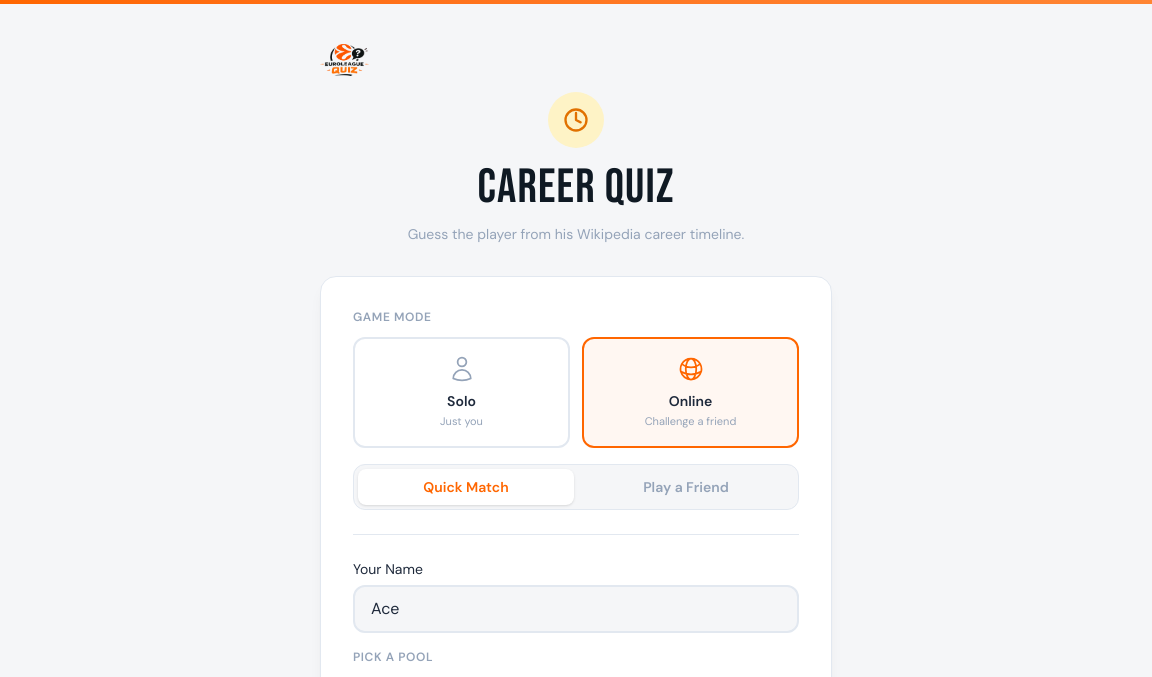
Scenario: CareerQuizSetup › captions the friend Create options with a Settings section, not on Quick Match
Expected: the text "Settings" is not shown
Click the button "Play a Friend" at (686, 486), box [578,468,794,504]
(page scrolled)
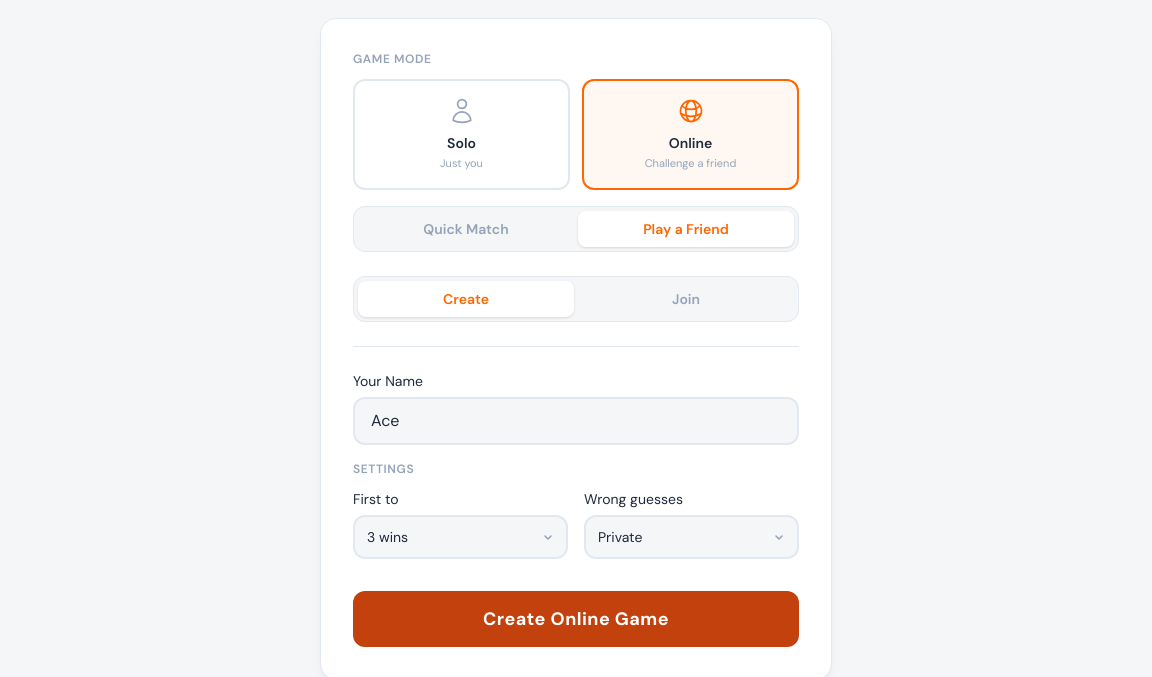
Expected: the text "Settings" is shown, [353,460,414,476]
